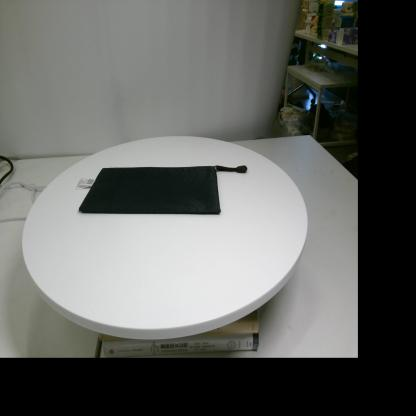Stationery: (76, 165, 248, 214)
